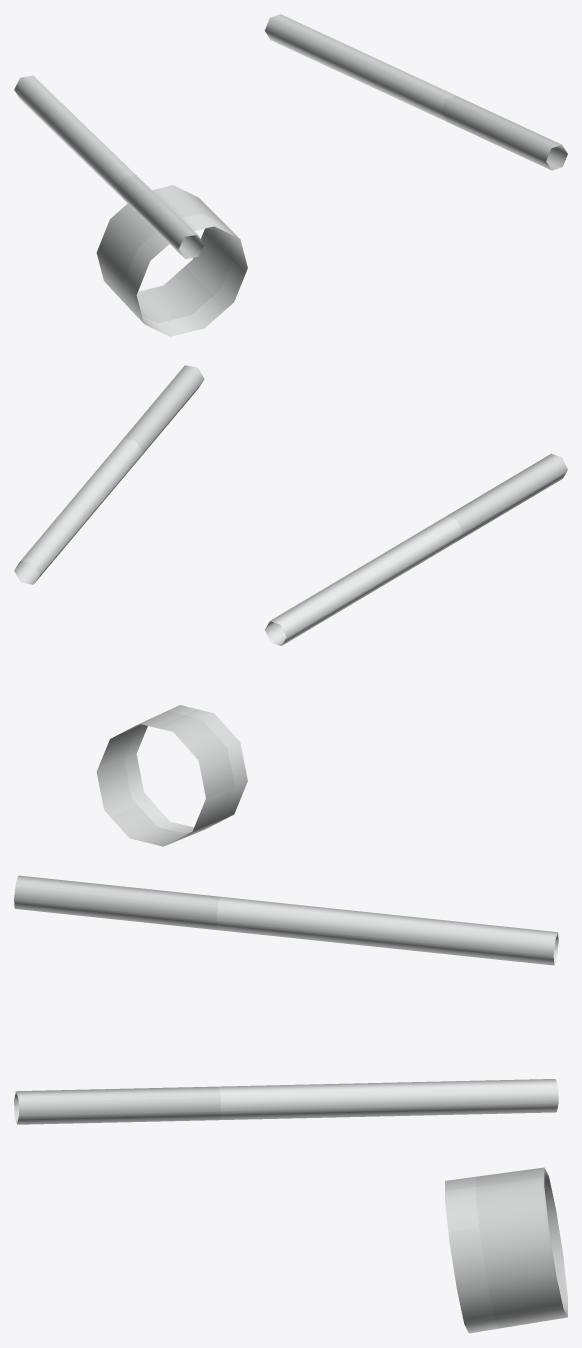
The model's file is nycsignalarm_regular4_c3.obj.
3 views of the same model, one above another, from view 1: azimuth 30°, elevation 25°; view 2: azimuth 150°, elevation 25°; view 3: azimuth 270°, elevation 25° (orthographic). The views are drawn at different scales.
Parts seen in each view (by area): view 1: nycsignalarm_regular4_c3; view 2: nycsignalarm_regular4_c3; view 3: nycsignalarm_regular4_c3.
Part boxes in pixels (box(x1,y1,x2,y2)): nycsignalarm_regular4_c3: box(14, 14, 567, 336); nycsignalarm_regular4_c3: box(14, 365, 567, 846); nycsignalarm_regular4_c3: box(14, 875, 567, 1333).
Bounding box in the file's own units: 1.01 × 0.688 × 1.03.
